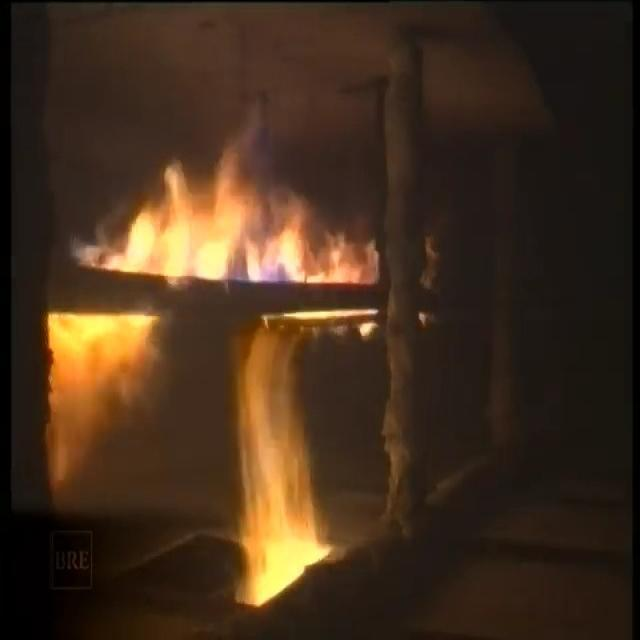Fire: (34, 148, 432, 592)
